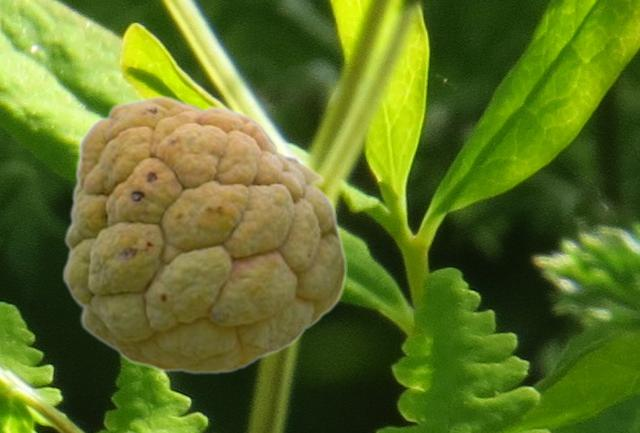atis: (61, 94, 346, 373)
